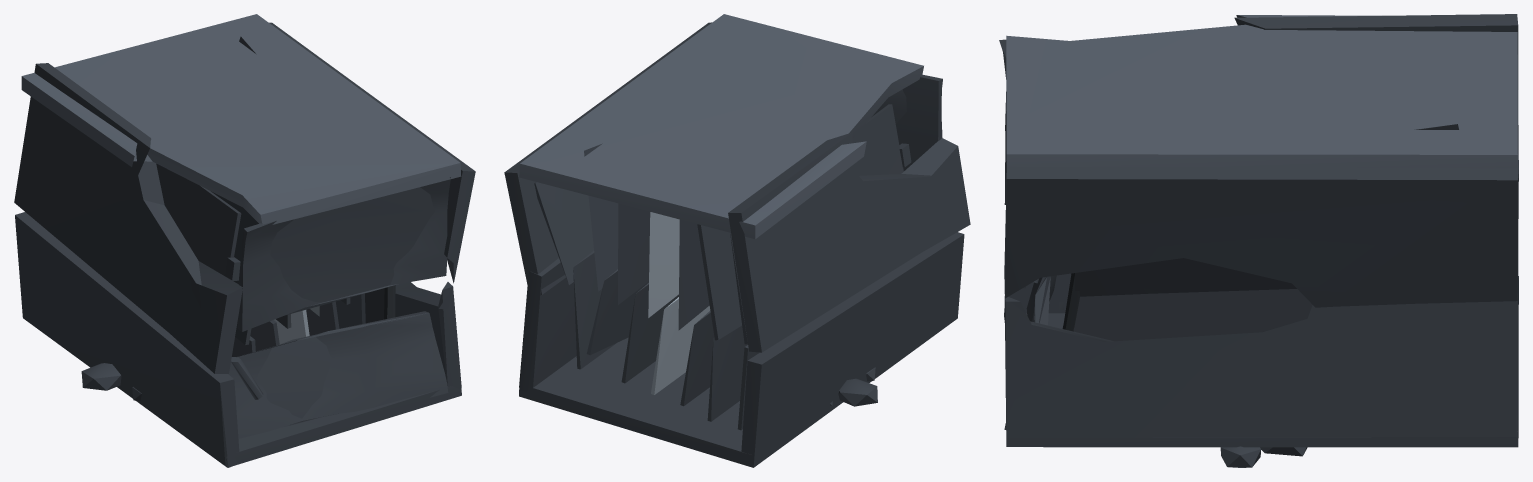
Rendered from shr_deb_circuit_module_a.glb.
3 renders of one model, left to right at view 1: azimuth 30°, elevation 25°; view 2: azimuth 150°, elevation 25°; view 3: azimuth 270°, elevation 25°, orthographic. The views are drawn at different scales.
Parts seen in each view (by area): view 1: frag_04, frag_03, husk, frag_02, frag_01, frag_05; view 2: frag_04, husk, frag_03, frag_05, frag_02; view 3: husk, frag_04, frag_05, frag_03, frag_01.
Boxes of the visible parts, x1,y1,x2,y2 form: frag_04: (21, 14, 461, 328); frag_03: (14, 63, 258, 373); husk: (15, 212, 461, 467); frag_02: (237, 177, 450, 331); frag_01: (228, 311, 448, 438); frag_05: (239, 22, 475, 309); frag_04: (519, 14, 923, 330); husk: (519, 232, 964, 467); frag_03: (697, 104, 970, 352); frag_05: (504, 22, 711, 294); frag_02: (872, 74, 942, 170); husk: (1004, 256, 1518, 467); frag_04: (1006, 15, 1518, 168); frag_05: (1004, 124, 1518, 325); frag_03: (1004, 14, 1518, 204); frag_01: (1004, 275, 1056, 429).
Size of the model in its own units: 0.4748 by 0.4162 by 0.6058.
